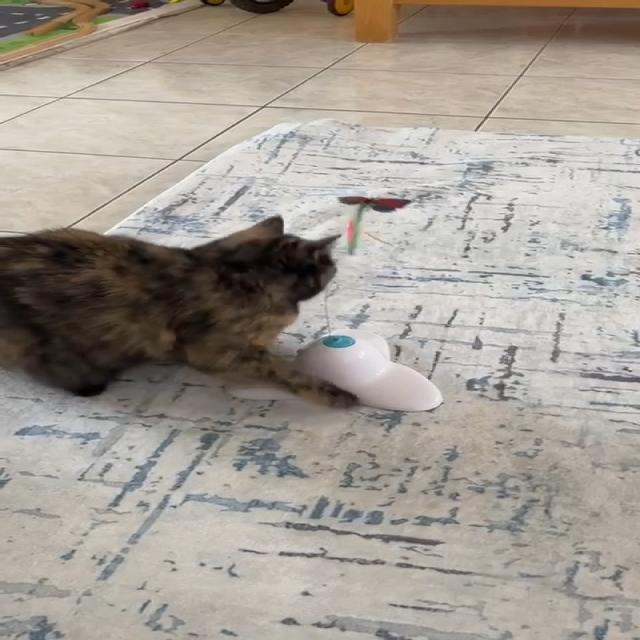authorized: (0, 213, 357, 409)
